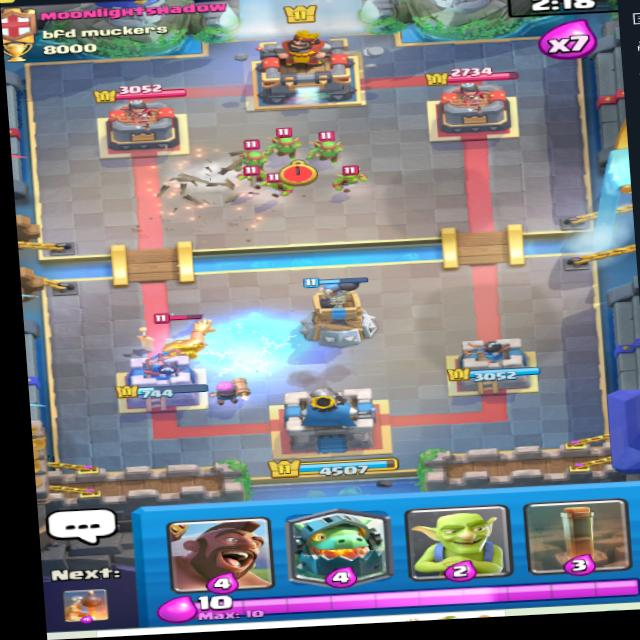goblin: (328, 160, 369, 197), (259, 168, 299, 201), (237, 160, 271, 191)
golden-knight: (138, 310, 233, 362)
golden-knight-ability: (137, 302, 238, 363)
spear-goblin: (269, 122, 311, 160), (229, 136, 273, 171), (307, 130, 351, 165)
